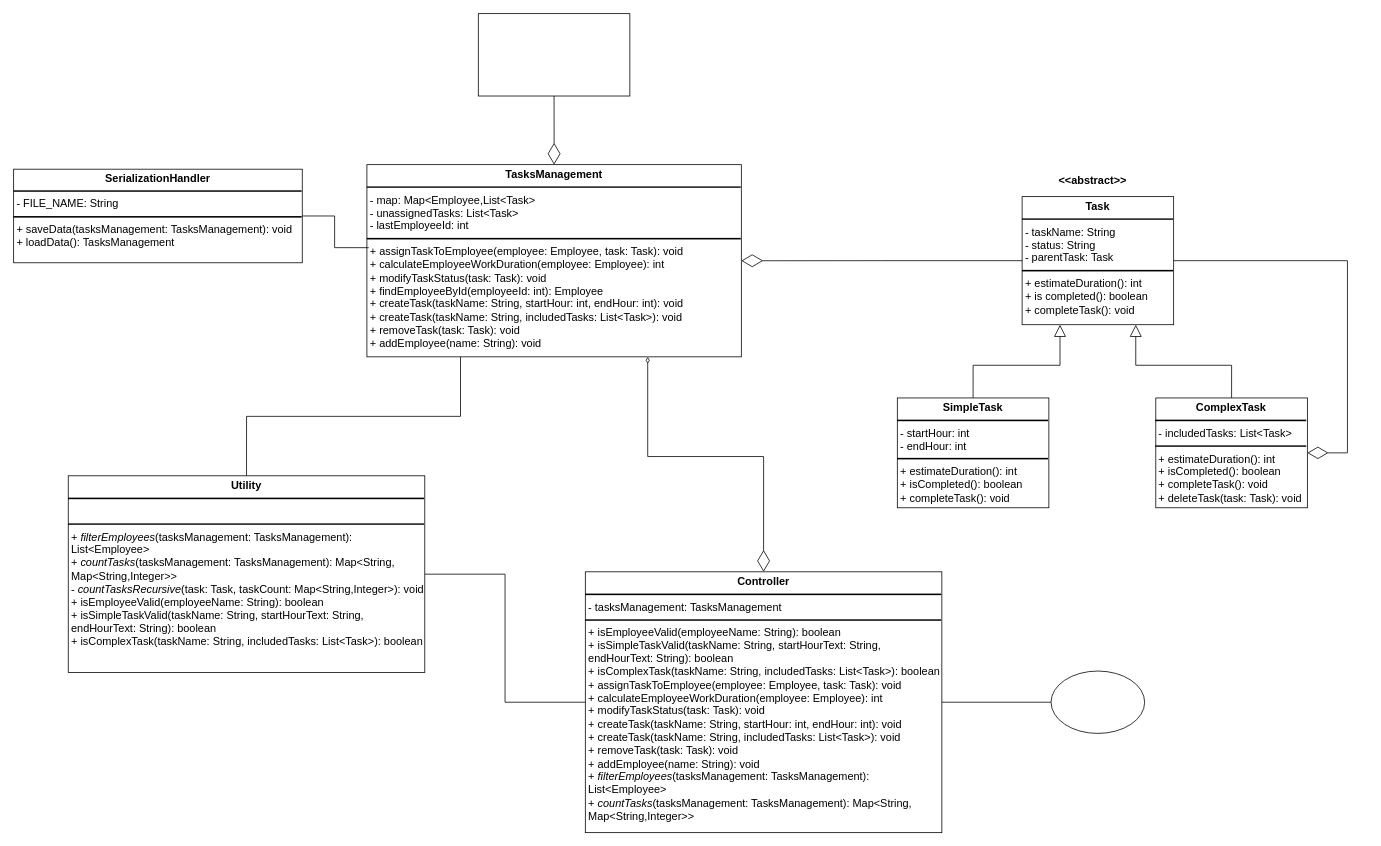
This 1381x846 diagram has some shape labels left out. Each missing label, with the box of its shape:
Employee - idEmployee: int - name: String - idGenerator: AtomicInteger: (478, 13, 630, 96)
GUI: (1050, 670, 1145, 733)
